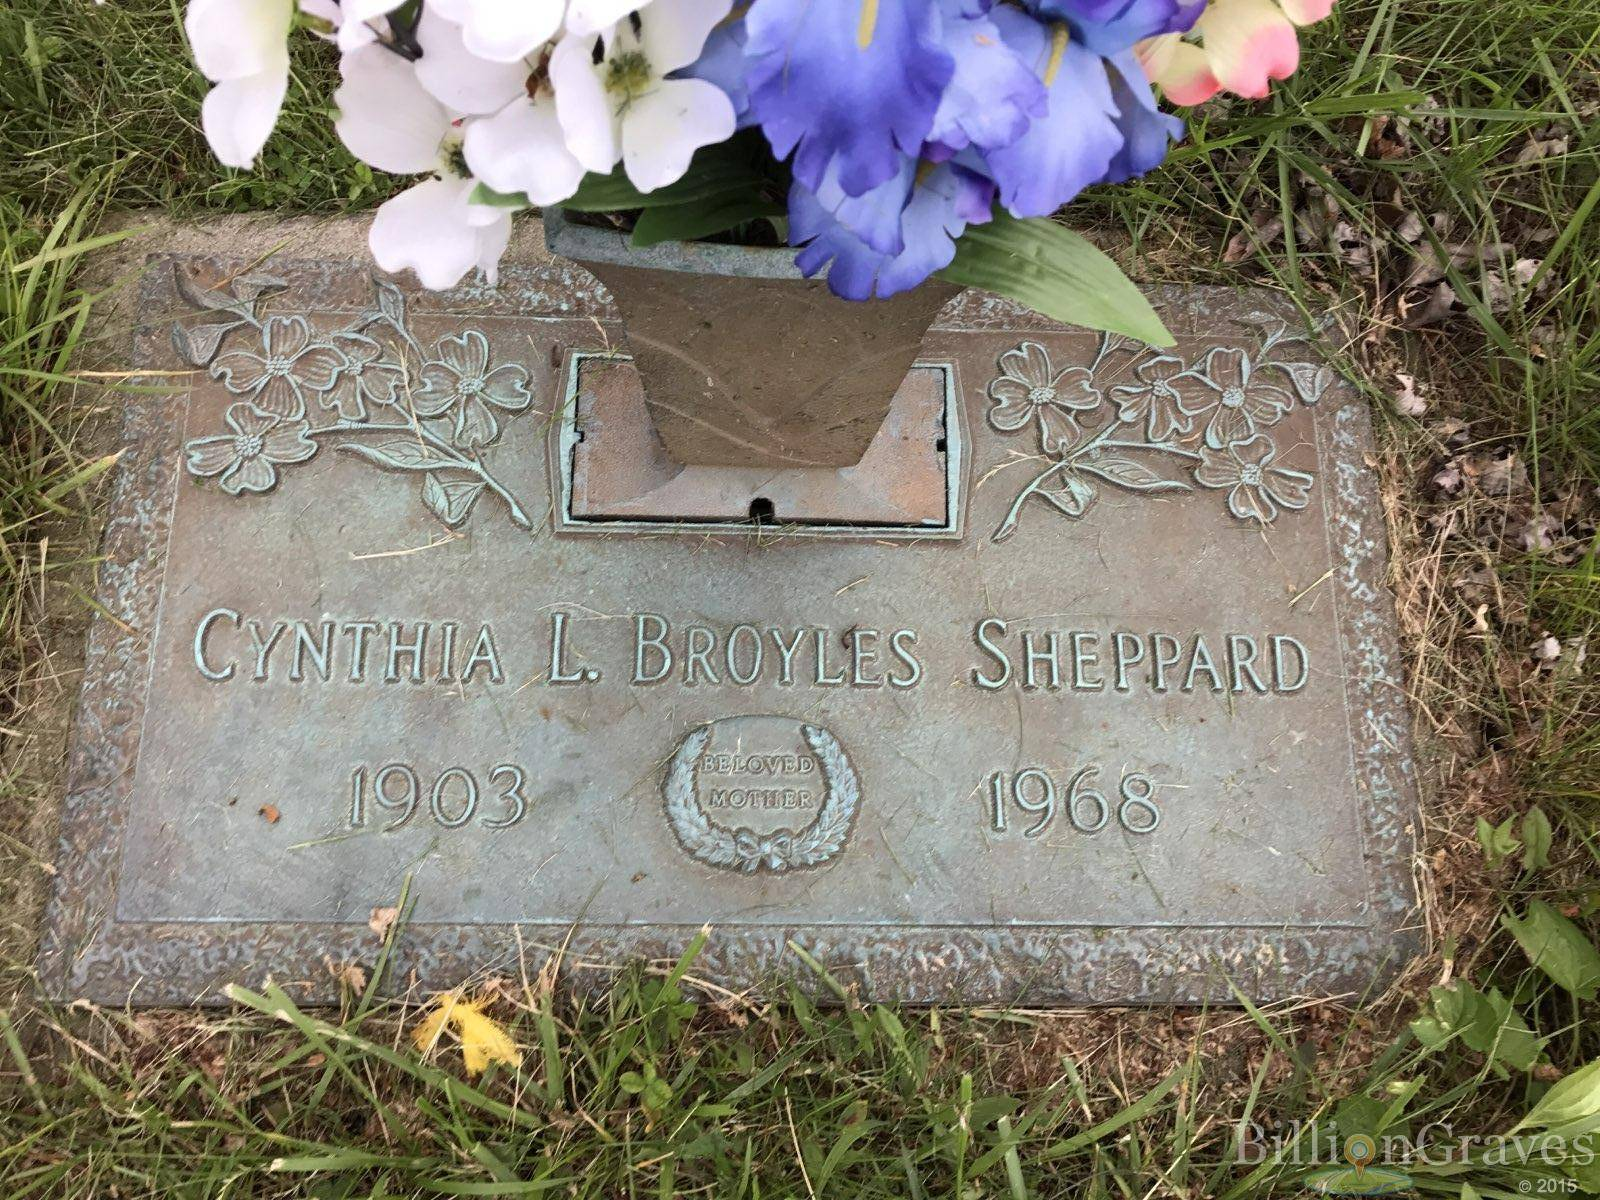flat: (34, 208, 1445, 1017)
